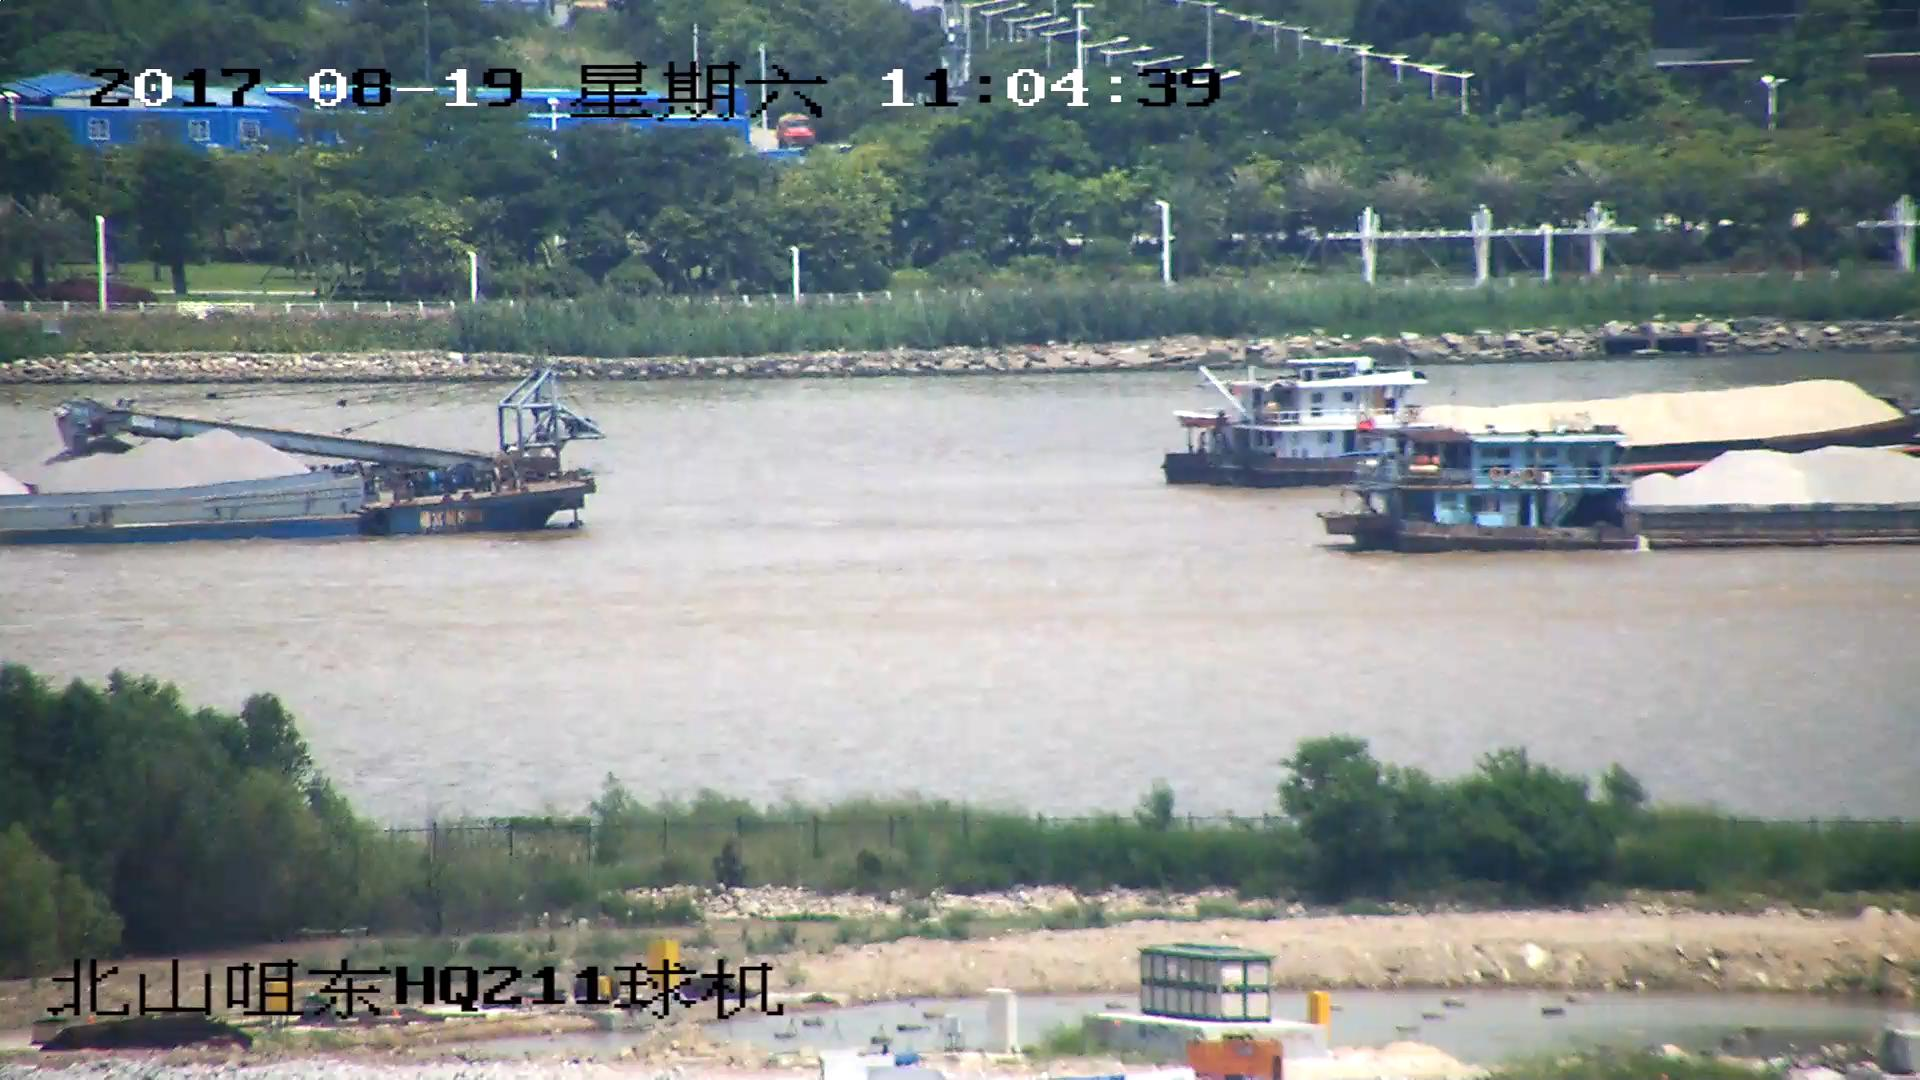ore carrier: (1, 365, 600, 541), (1166, 360, 1920, 487), (1340, 435, 1920, 559)
